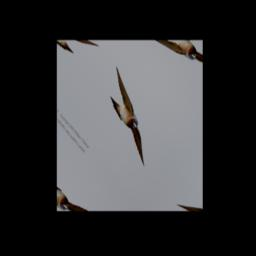Swallow: (87, 64, 174, 167)
